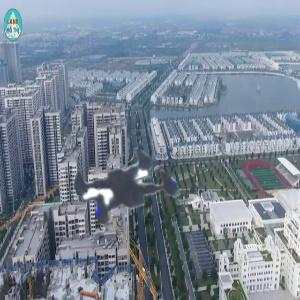drone: (25, 90, 227, 292)
